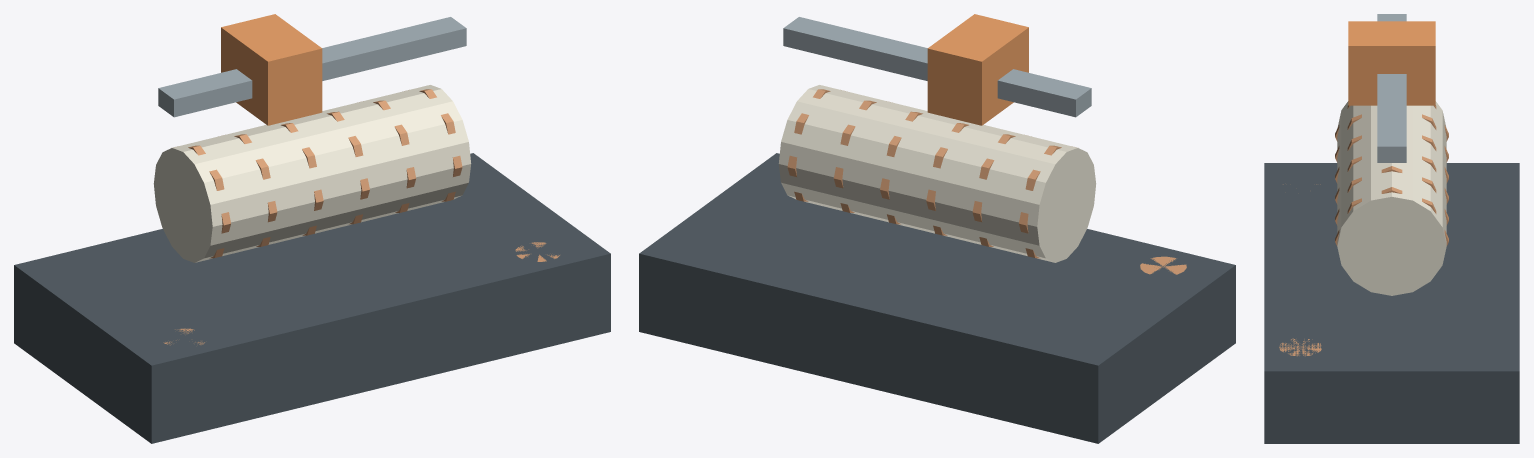
Rendered from rheostat_lod2.glb.
3 views of the same model, side by side, from view 1: azimuth 30°, elevation 25°; view 2: azimuth 150°, elevation 25°; view 3: azimuth 270°, elevation 25° (orthographic). The views are drawn at different scales.
Parts seen in each view (by area): view 1: RHEO_BASE_MAT_POLYMER_BLACK, RHEO_CORE_MAT_CERAMIC, RHEO_SLIDER_MAT_ORANGE, RHEO_RAIL_MAT_METAL_BRUSHED; view 2: RHEO_BASE_MAT_POLYMER_BLACK, RHEO_CORE_MAT_CERAMIC, RHEO_SLIDER_MAT_ORANGE, RHEO_RAIL_MAT_METAL_BRUSHED; view 3: RHEO_BASE_MAT_POLYMER_BLACK, RHEO_CORE_MAT_CERAMIC, RHEO_SLIDER_MAT_ORANGE, RHEO_RAIL_MAT_METAL_BRUSHED, RHEO_TERM_0.52_MAT_METAL_COPPER, RHEO_WIRE_4_MAT_METAL_COPPER, RHEO_WIRE_5_MAT_METAL_COPPER.
Part boxes in pixels (bbox=[...]): RHEO_BASE_MAT_POLYMER_BLACK: bbox=[14, 153, 610, 443]; RHEO_CORE_MAT_CERAMIC: bbox=[153, 85, 471, 262]; RHEO_SLIDER_MAT_ORANGE: bbox=[221, 14, 322, 125]; RHEO_RAIL_MAT_METAL_BRUSHED: bbox=[158, 17, 466, 117]; RHEO_BASE_MAT_POLYMER_BLACK: bbox=[639, 153, 1235, 443]; RHEO_CORE_MAT_CERAMIC: bbox=[778, 85, 1096, 262]; RHEO_SLIDER_MAT_ORANGE: bbox=[927, 14, 1028, 125]; RHEO_RAIL_MAT_METAL_BRUSHED: bbox=[783, 17, 1091, 117]; RHEO_BASE_MAT_POLYMER_BLACK: bbox=[1264, 163, 1519, 443]; RHEO_CORE_MAT_CERAMIC: bbox=[1337, 101, 1446, 295]; RHEO_SLIDER_MAT_ORANGE: bbox=[1348, 21, 1435, 105]; RHEO_RAIL_MAT_METAL_BRUSHED: bbox=[1377, 14, 1406, 162]; RHEO_TERM_0.52_MAT_METAL_COPPER: bbox=[1279, 338, 1321, 356]; RHEO_WIRE_4_MAT_METAL_COPPER: bbox=[1335, 166, 1448, 225]; RHEO_WIRE_5_MAT_METAL_COPPER: bbox=[1335, 187, 1448, 245].
Size of the model in its own units: 1.35 by 0.87 by 0.7.
